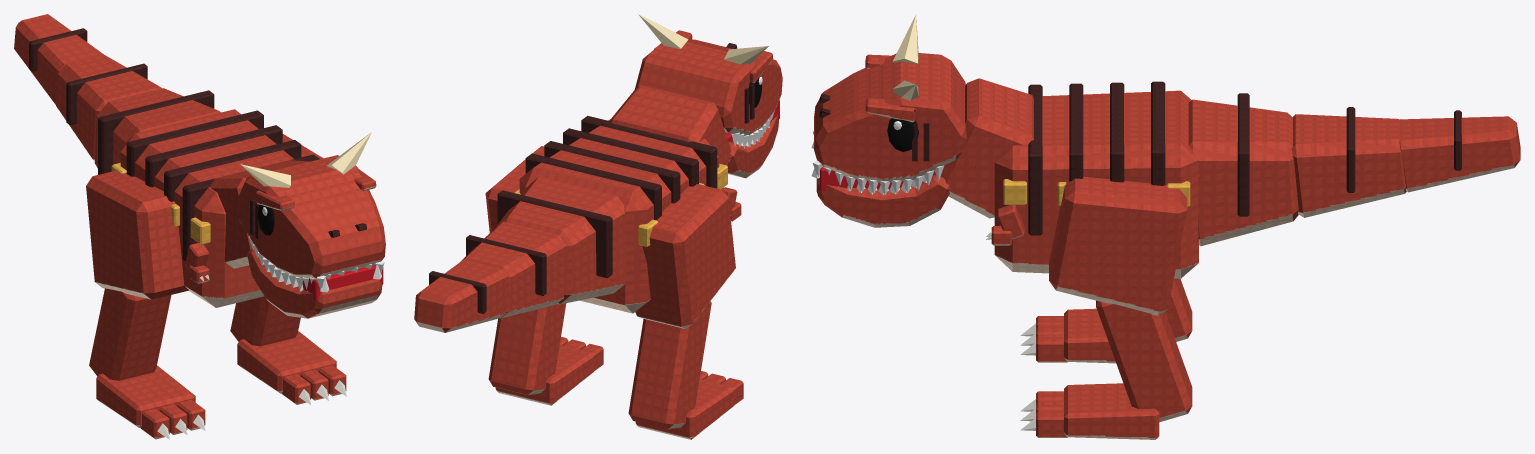
The model's file is 14_Carnotaurus.glb.
3 views of the same model, side by side, from view 1: azimuth 30°, elevation 25°; view 2: azimuth 150°, elevation 25°; view 3: azimuth 270°, elevation 25° (orthographic). The views are drawn at different scales.
Parts seen in each view (by area): view 1: 14_Carnotaurus; view 2: 14_Carnotaurus; view 3: 14_Carnotaurus.
Part boxes in pixels (x1,y1,x2,y2): 14_Carnotaurus: (14,14,385,439); 14_Carnotaurus: (414,14,782,439); 14_Carnotaurus: (811,15,1520,439).
Bounding box in the file's own units: 4.09 × 6.04 × 11.46.
Materials: 1 (1 with a texture image).
